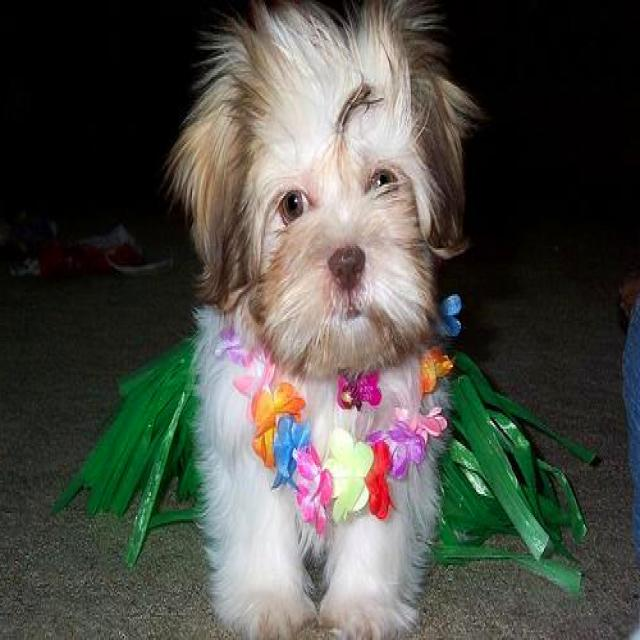shih_tzu: (164, 6, 482, 632)
